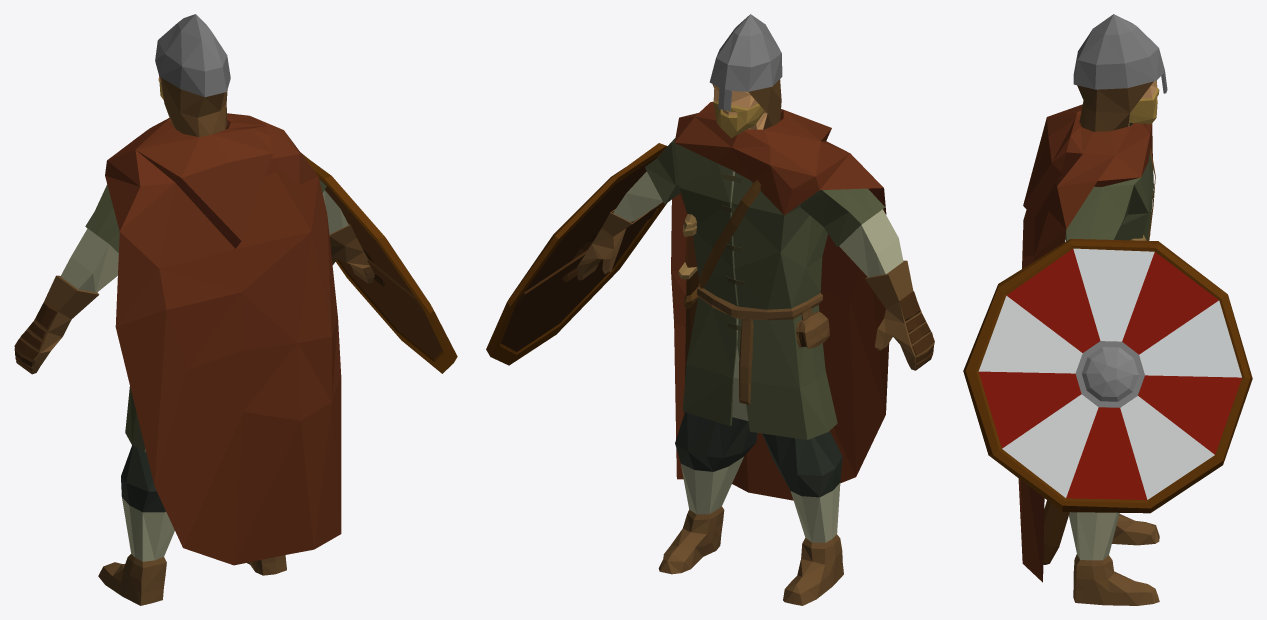
The model's file is arnold2.fbx.
3 renders of one model, left to right at view 1: azimuth 30°, elevation 25°; view 2: azimuth 150°, elevation 25°; view 3: azimuth 270°, elevation 25°, orthographic.
Parts seen in each view (by area): view 1: Cylinder.003, Cylinder.001; view 2: Cylinder.003, Cylinder.001, Cube, Cube.000, Cylinder.005; view 3: Cylinder.001, Cylinder.003, Cube, Cube.000.
Boxes of the visible parts, x1,y1,x2,y2 form: Cylinder.003: [14, 14, 374, 605]; Cylinder.001: [301, 153, 457, 373]; Cylinder.003: [577, 14, 934, 605]; Cylinder.001: [486, 143, 667, 365]; Cube: [684, 180, 760, 413]; Cube.000: [713, 85, 767, 137]; Cylinder.005: [678, 214, 697, 279]; Cylinder.001: [963, 239, 1252, 513]; Cylinder.003: [1018, 14, 1167, 605]; Cube: [1043, 148, 1155, 564]; Cube.000: [1128, 80, 1159, 126].
Bounding box in the file's own units: 378 × 501 × 237.
